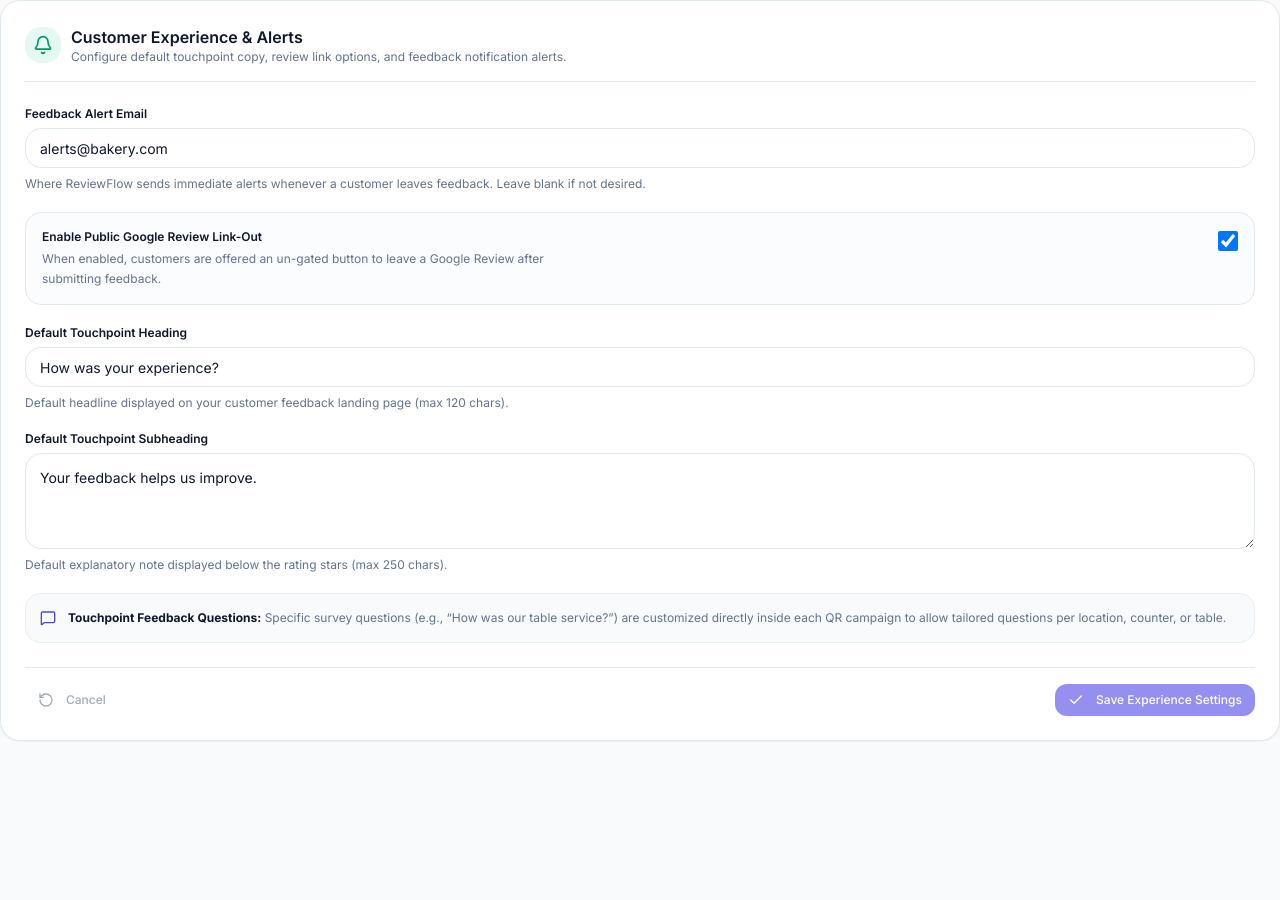
Test: NotificationSettingsForm Component › restores initial values on Cancel click
Replace the text in the field labelled "Feedback Alert Email" with "changed@bakery.com" at (640, 148), box left=25, top=128, right=1255, bottom=168
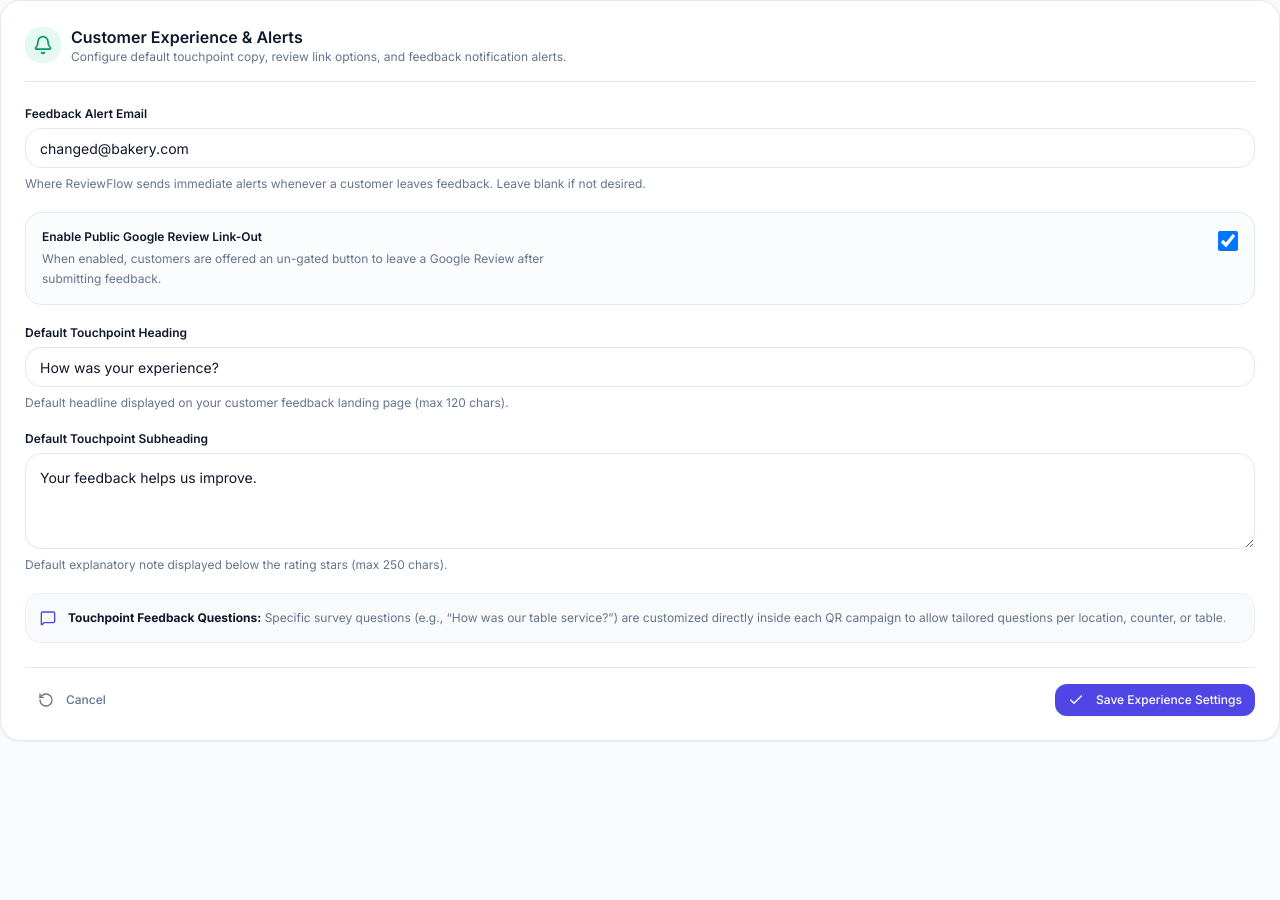
Click the button "Cancel" at (72, 700), box left=25, top=684, right=119, bottom=716
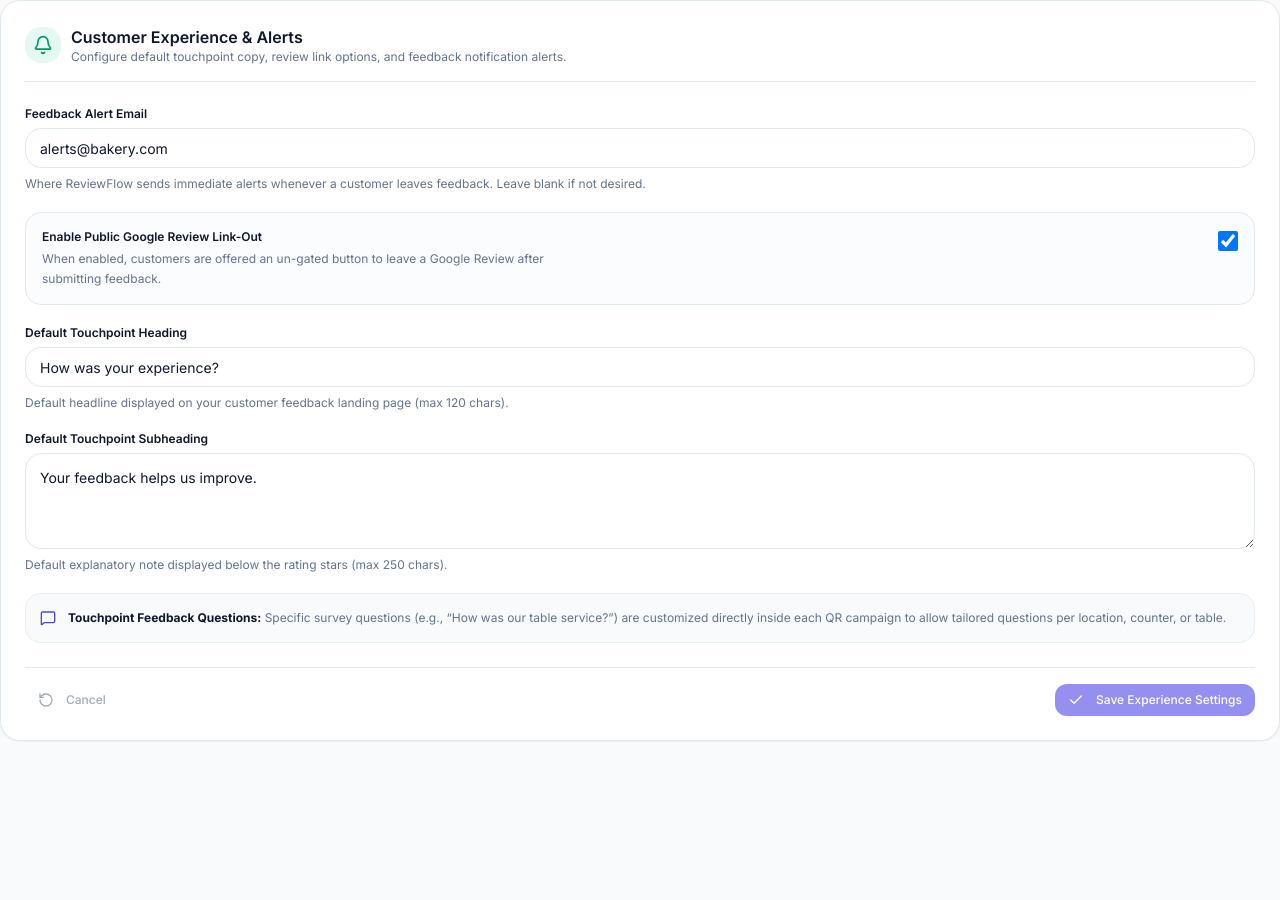
Now the field labelled "Feedback Alert Email" holds "alerts@bakery.com", box left=25, top=128, right=1255, bottom=168
